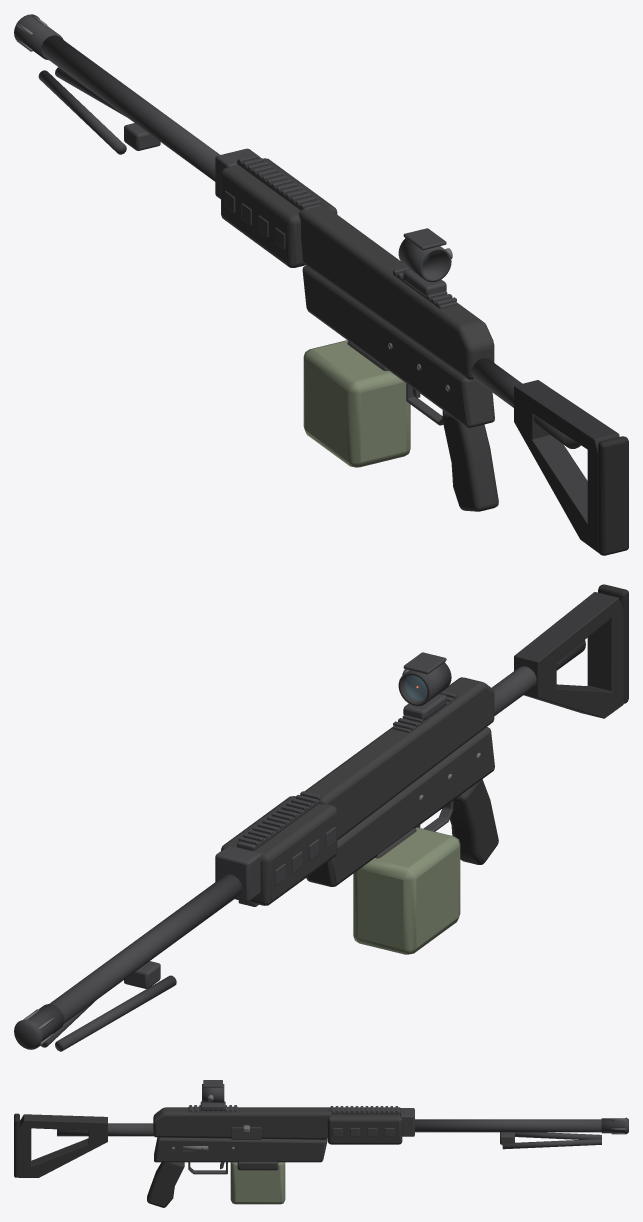
Rendered from w_negev.glb.
3 renders of one model, top to bottom at view 1: azimuth 30°, elevation 25°; view 2: azimuth 150°, elevation 25°; view 3: azimuth 270°, elevation 25°, orthographic. The views are drawn at different scales.
Parts seen in each view (by area): view 1: body, mag; view 2: body, mag; view 3: body, mag.
Part boxes in pixels (x1,y1,x2,y2): body: [14, 14, 628, 555]; mag: [303, 340, 410, 467]; body: [14, 584, 628, 1051]; mag: [353, 827, 460, 954]; body: [14, 1080, 628, 1207]; mag: [230, 1162, 285, 1204].
Size of the model in its own units: 0.0858 by 0.2248 by 1.02.
